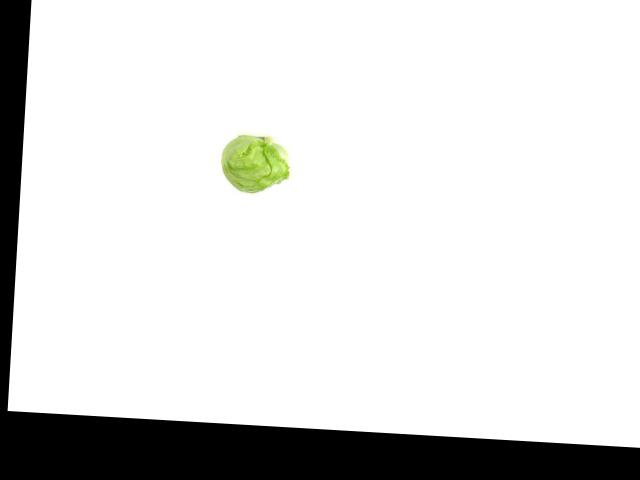lettuce: (213, 133, 299, 201)
